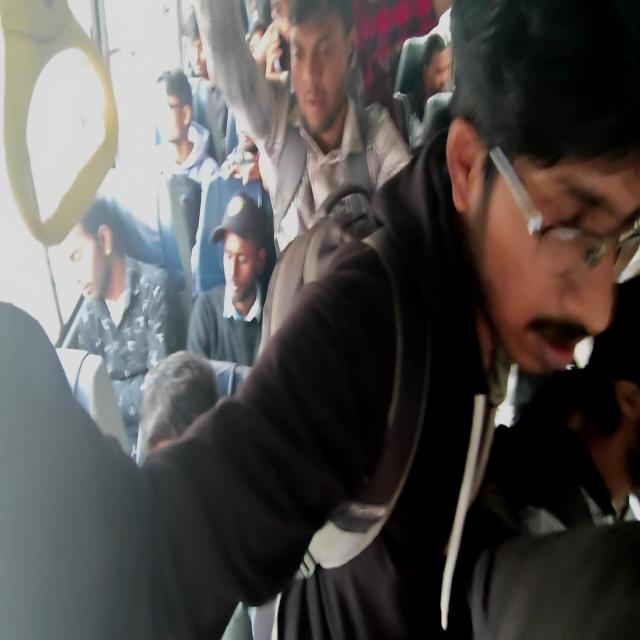person: (456, 24, 640, 378), (282, 7, 354, 135), (55, 206, 125, 320), (134, 363, 214, 443), (215, 202, 273, 311), (592, 382, 638, 500), (148, 76, 193, 172), (180, 8, 223, 79), (429, 38, 453, 98), (246, 22, 264, 75)
